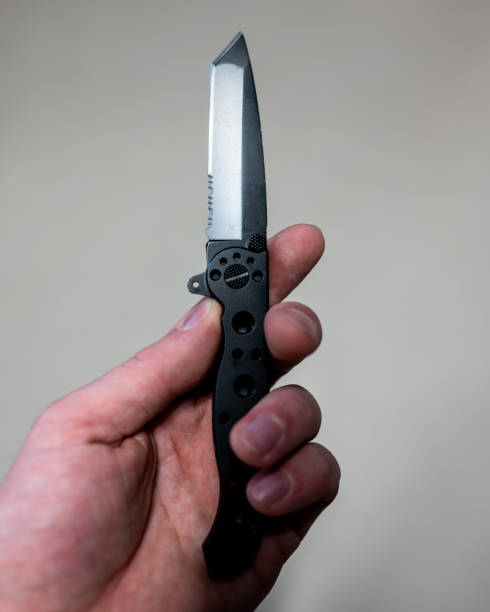knife: (183, 26, 272, 586)
